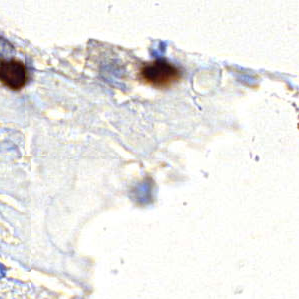Lymphocyte: (141, 58, 181, 88)
